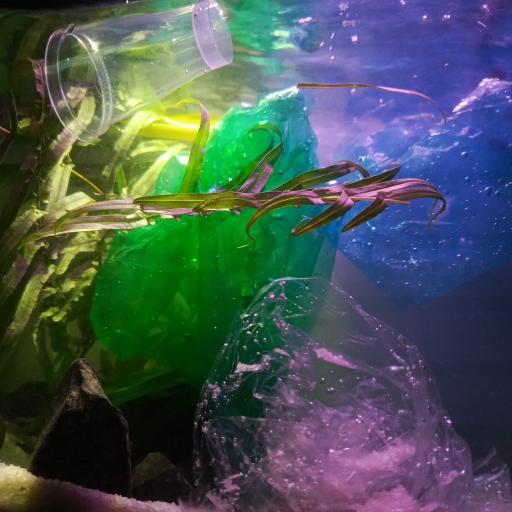plastic_bag: (92, 85, 339, 419), (189, 275, 512, 512), (273, 74, 512, 310)
plastic_cup: (48, 0, 234, 142)
